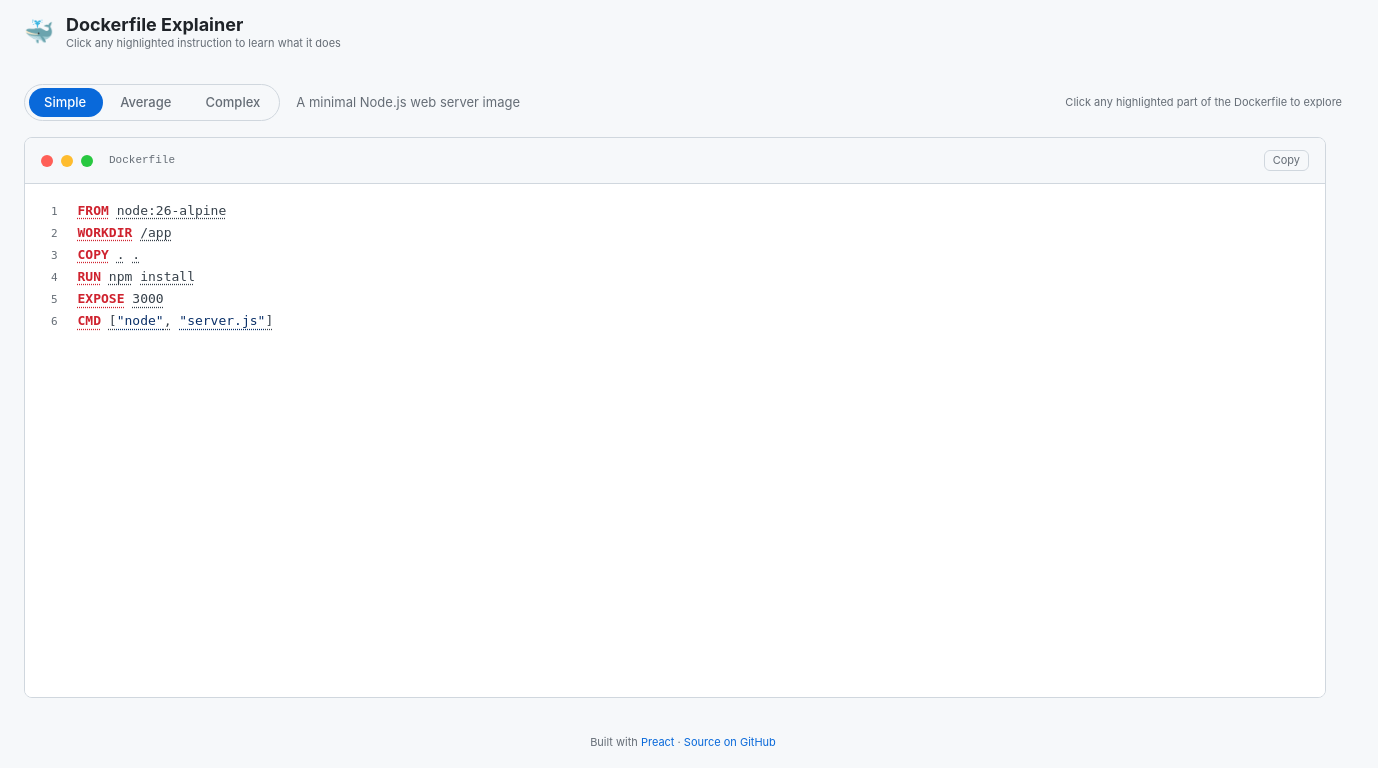
Test: App › explanation panel › shows documentation links
Click the button with aria-label "FROM:". click: [93, 211]
box: [76, 200, 111, 222]
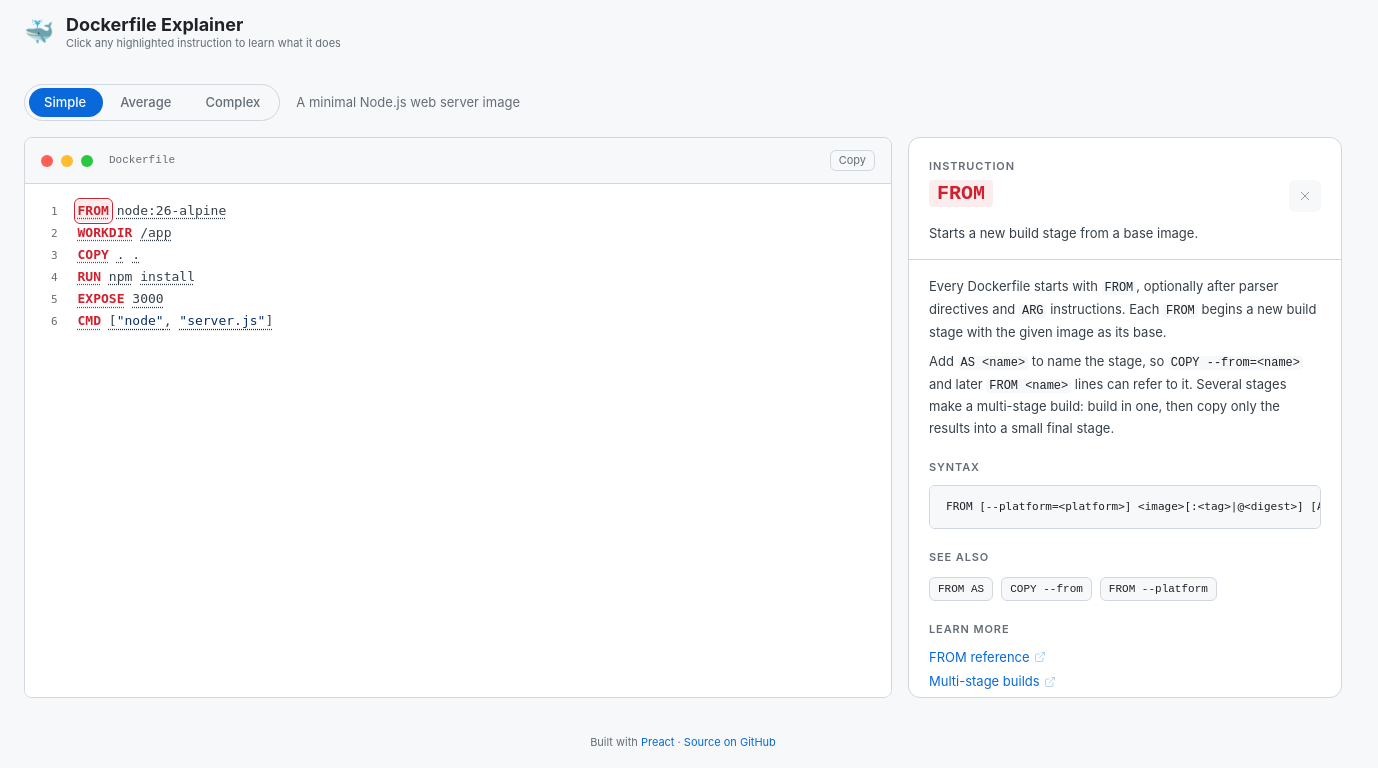
Expected: the link "FROM reference" is shown, [925, 645, 1050, 670]
